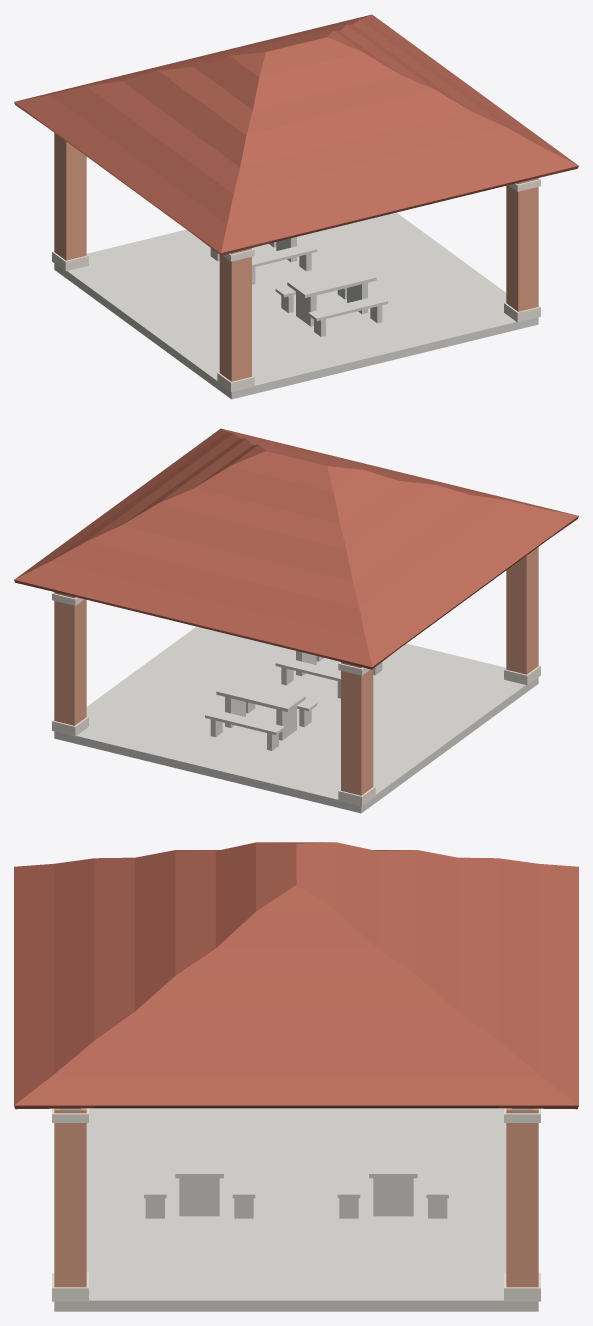
Rendered from sala.glb.
3 renders of one model, top to bottom at view 1: azimuth 30°, elevation 25°; view 2: azimuth 150°, elevation 25°; view 3: azimuth 270°, elevation 25°, orthographic. The views are drawn at different scales.
Visible parts, largest first — view 1: sala_red_roof; view 2: sala_red_roof; view 3: sala_red_roof.
Boxes of the visible parts, x1,y1,x2,y2 form: sala_red_roof: [14, 14, 578, 399]; sala_red_roof: [14, 428, 578, 813]; sala_red_roof: [14, 842, 578, 1311].
Bounding box in the file's own units: 7 × 4.72 × 7.
